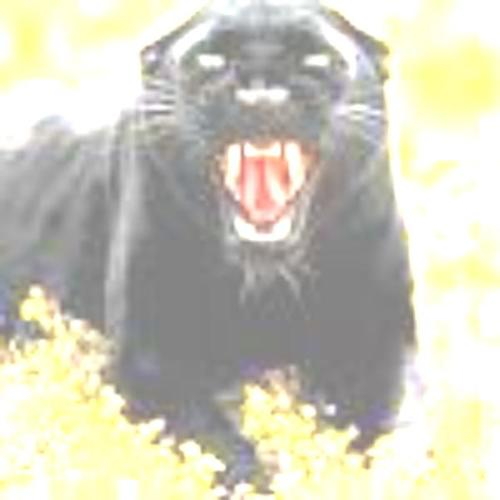panther-endangered: (23, 14, 408, 422)
